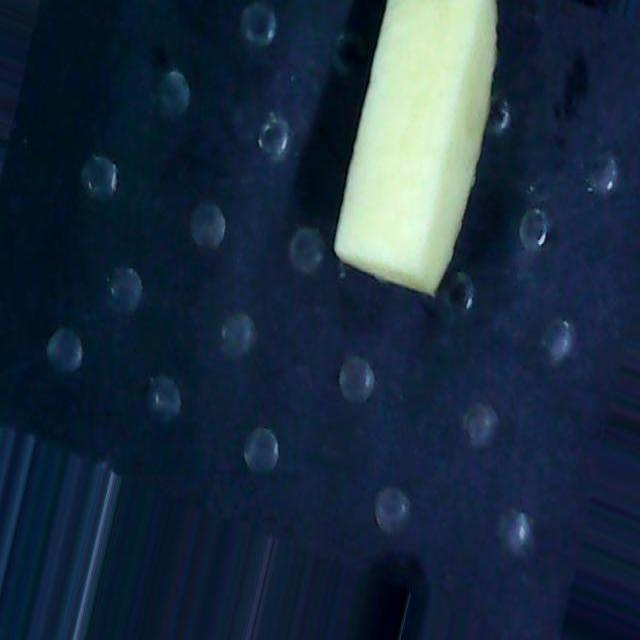-Kitchen waste - potato-: (339, 0, 504, 298)
